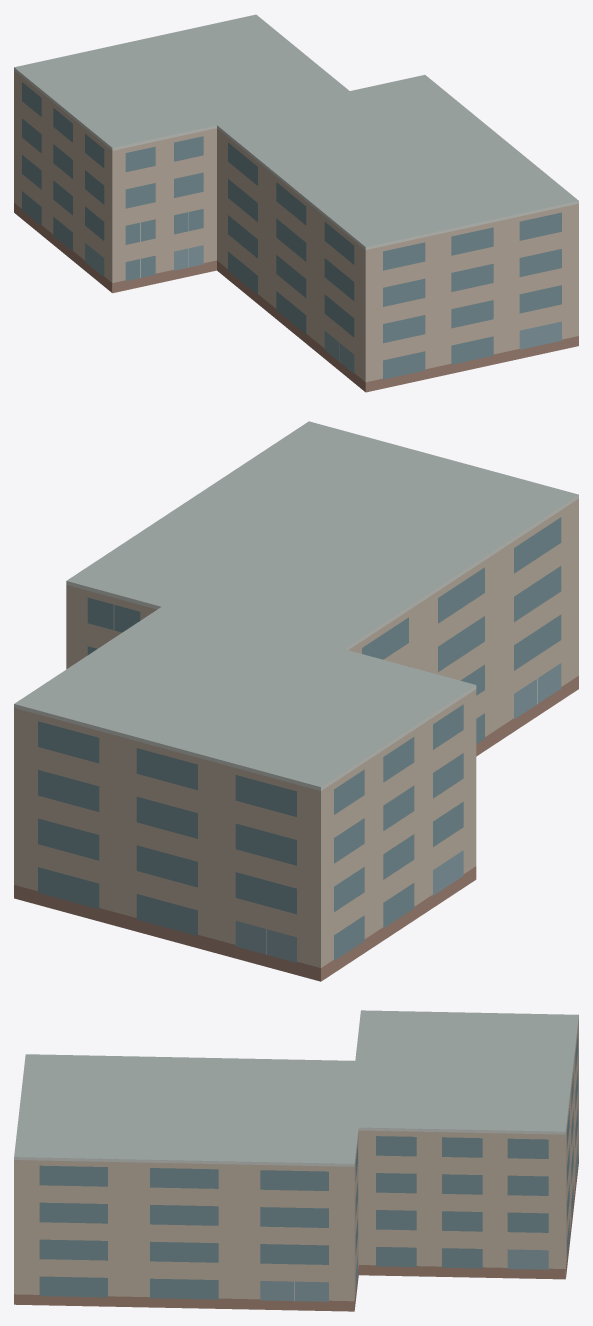
File: residential-71c3525d-765d-471a-b2ff-d6329611b8b9.glb
3 views of the same model, one above another, from view 1: azimuth 30°, elevation 25°; view 2: azimuth 150°, elevation 25°; view 3: azimuth 270°, elevation 25° (orthographic). The views are drawn at different scales.
Parts seen in each view (by area): view 1: residential-71c3525d-765d-471a-b2ff-d6329611b8b9.tmp; view 2: residential-71c3525d-765d-471a-b2ff-d6329611b8b9.tmp; view 3: residential-71c3525d-765d-471a-b2ff-d6329611b8b9.tmp.
Part boxes in pixels (bbox=[...]): residential-71c3525d-765d-471a-b2ff-d6329611b8b9.tmp: bbox=[14, 14, 578, 392]; residential-71c3525d-765d-471a-b2ff-d6329611b8b9.tmp: bbox=[14, 421, 578, 981]; residential-71c3525d-765d-471a-b2ff-d6329611b8b9.tmp: bbox=[14, 1010, 578, 1311].
Size of the model in its own units: 27.21 by 12.2 by 42.3.
